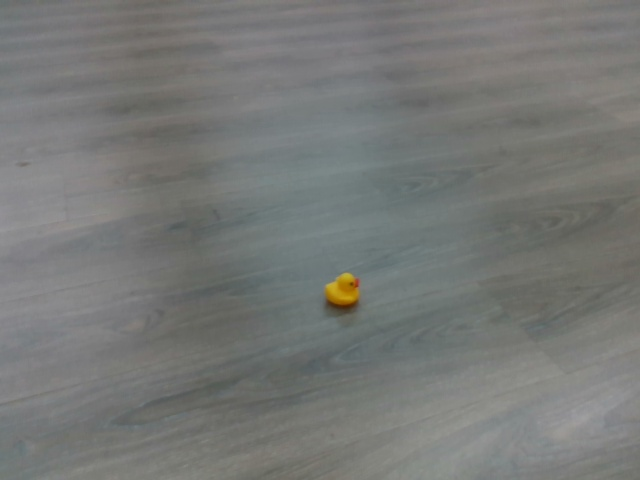duck: (320, 266, 366, 311)
